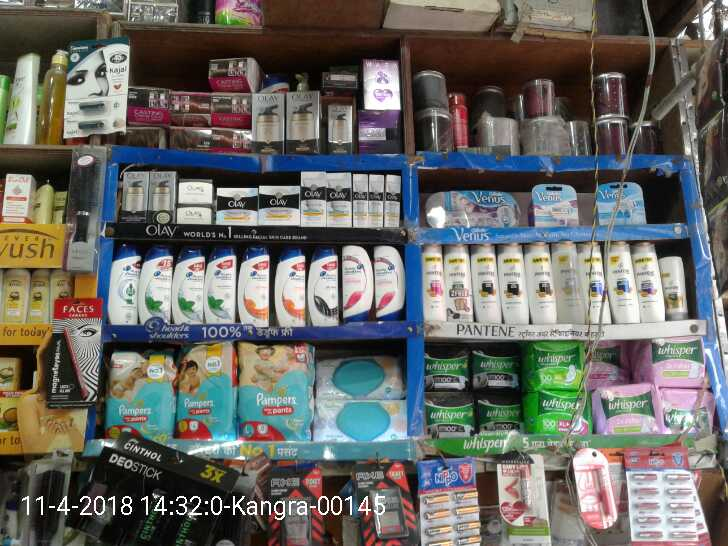venus: (426, 187, 519, 228), (529, 187, 584, 226), (598, 180, 645, 224)
